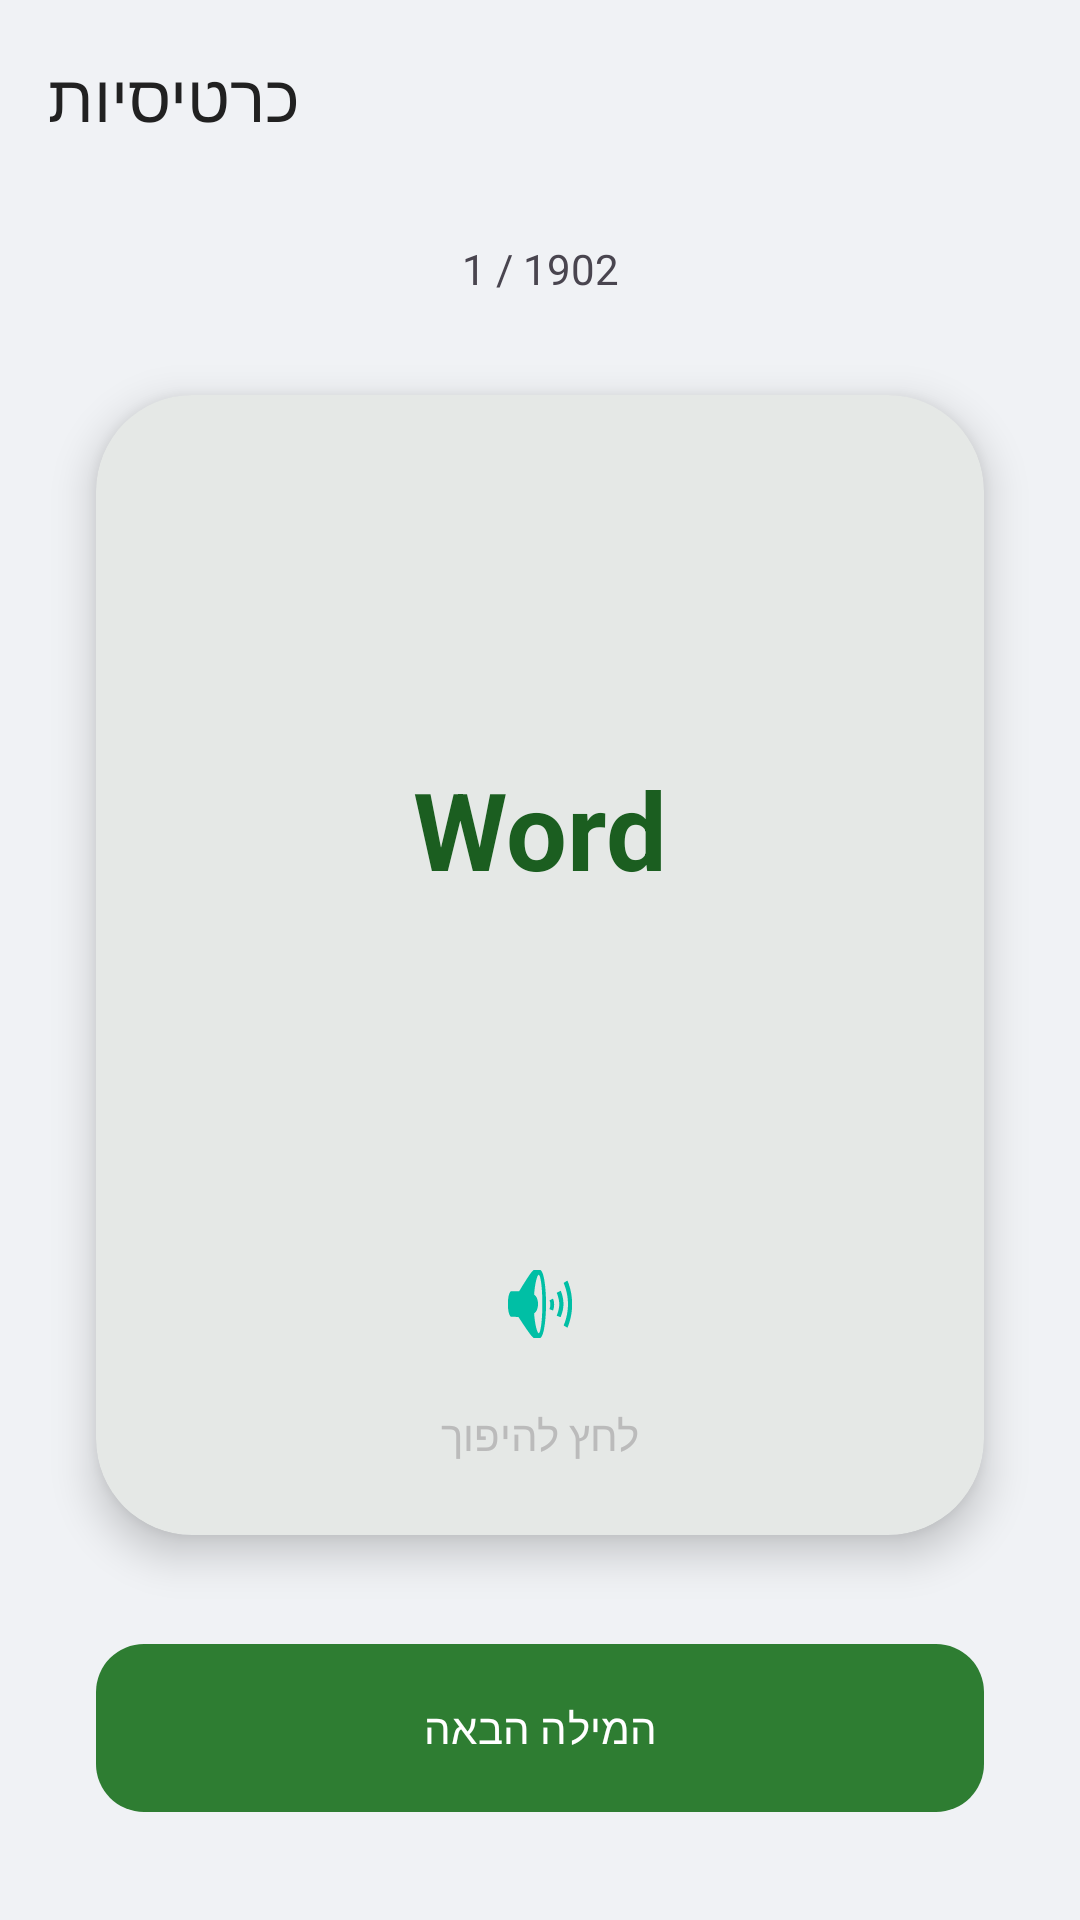

Where icons sit on this 1080×1920 app screen, as box(x1, y1, x2, y2):
השמע מילה: box(508, 1270, 572, 1338)
